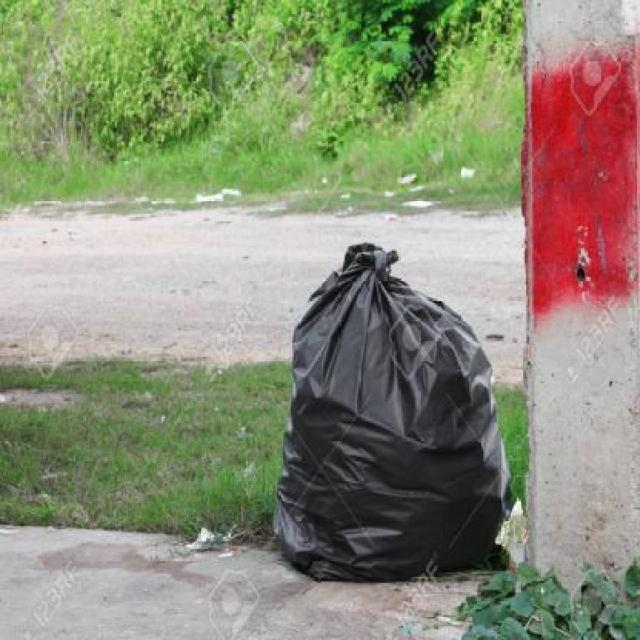garbage: (242, 225, 520, 604), (377, 155, 484, 220), (171, 506, 242, 572), (179, 169, 259, 220), (325, 166, 368, 214)
